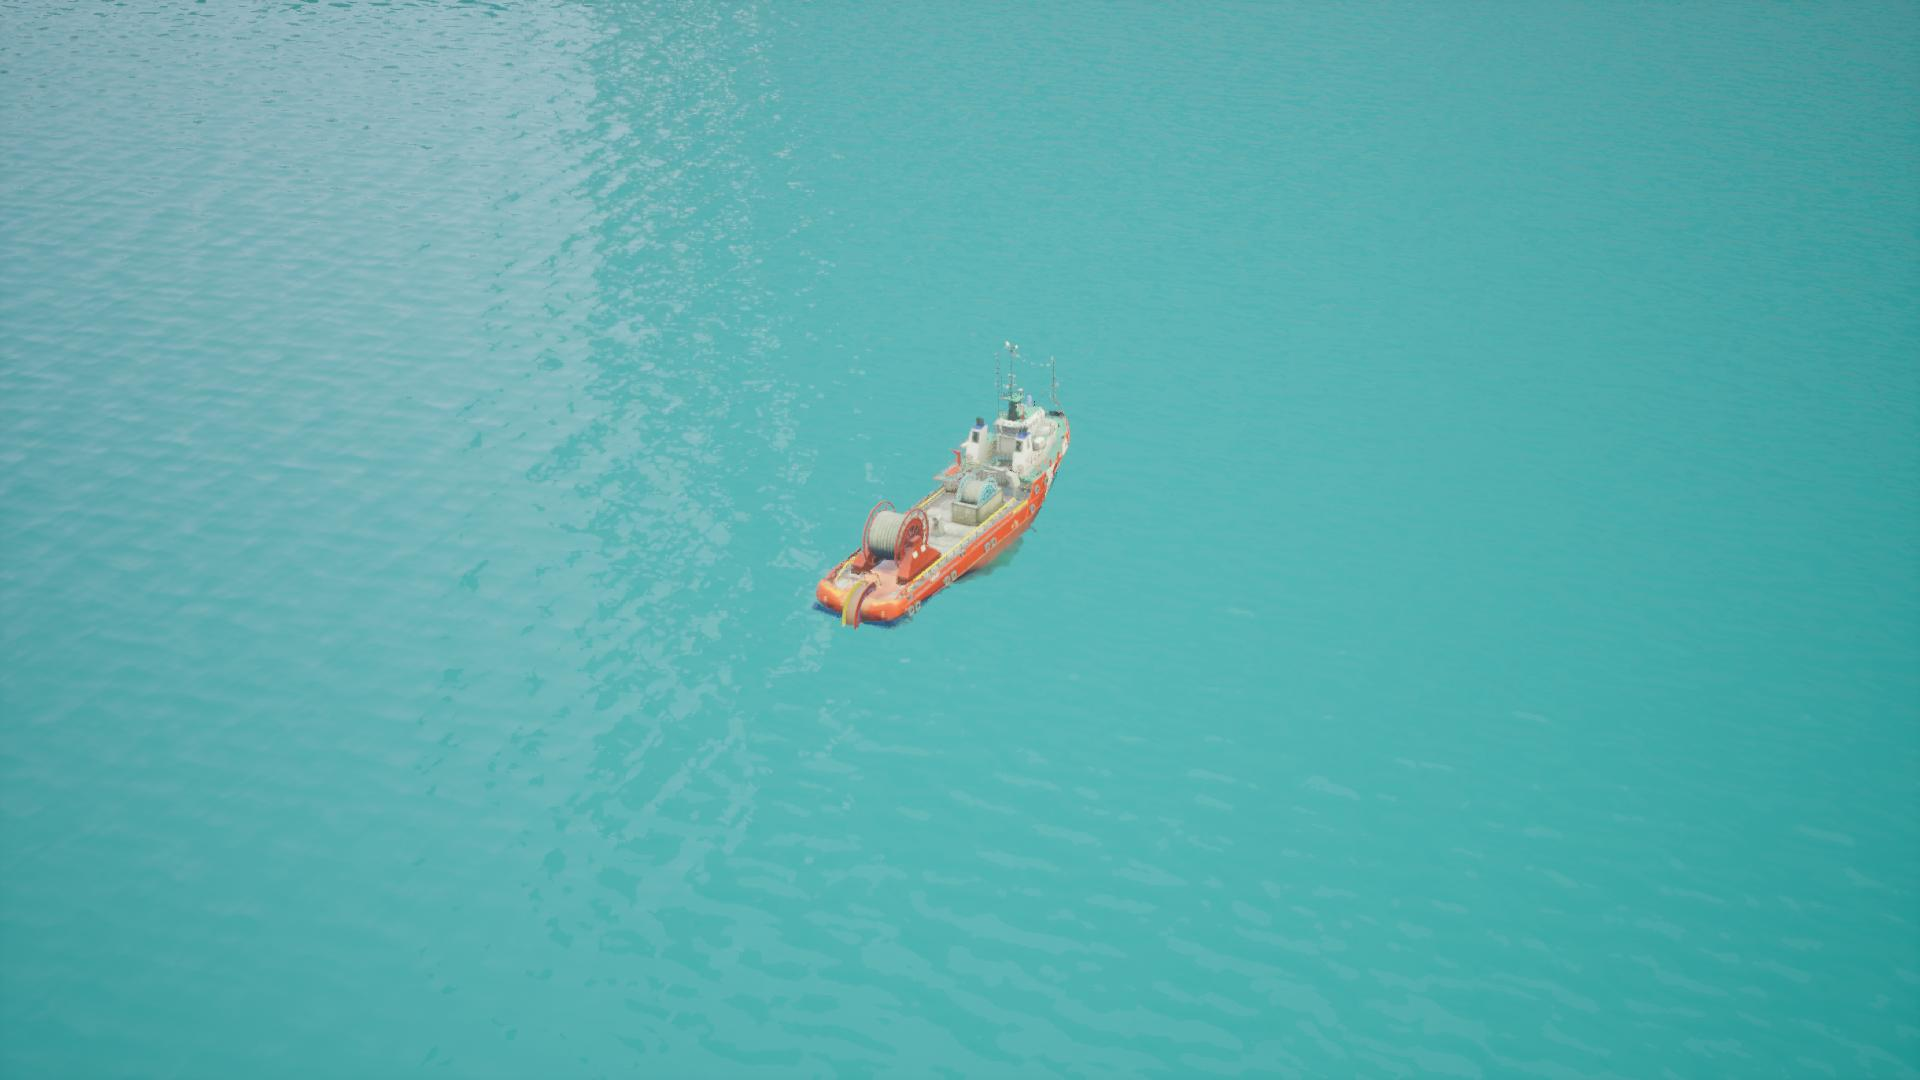Tug Boat: (752, 347, 1122, 655)
